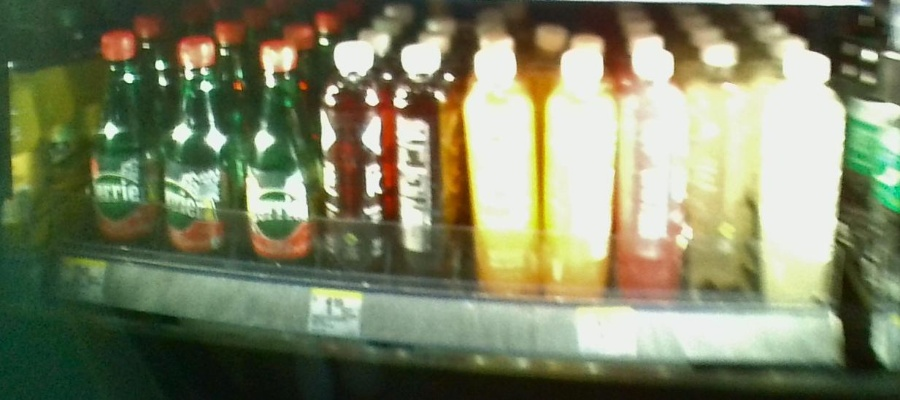bottle: (764, 47, 846, 324), (462, 45, 543, 304), (546, 36, 620, 310), (161, 33, 241, 256), (322, 36, 393, 283), (693, 43, 756, 315), (624, 47, 688, 304), (248, 38, 317, 270), (396, 36, 458, 290), (85, 27, 157, 245)
